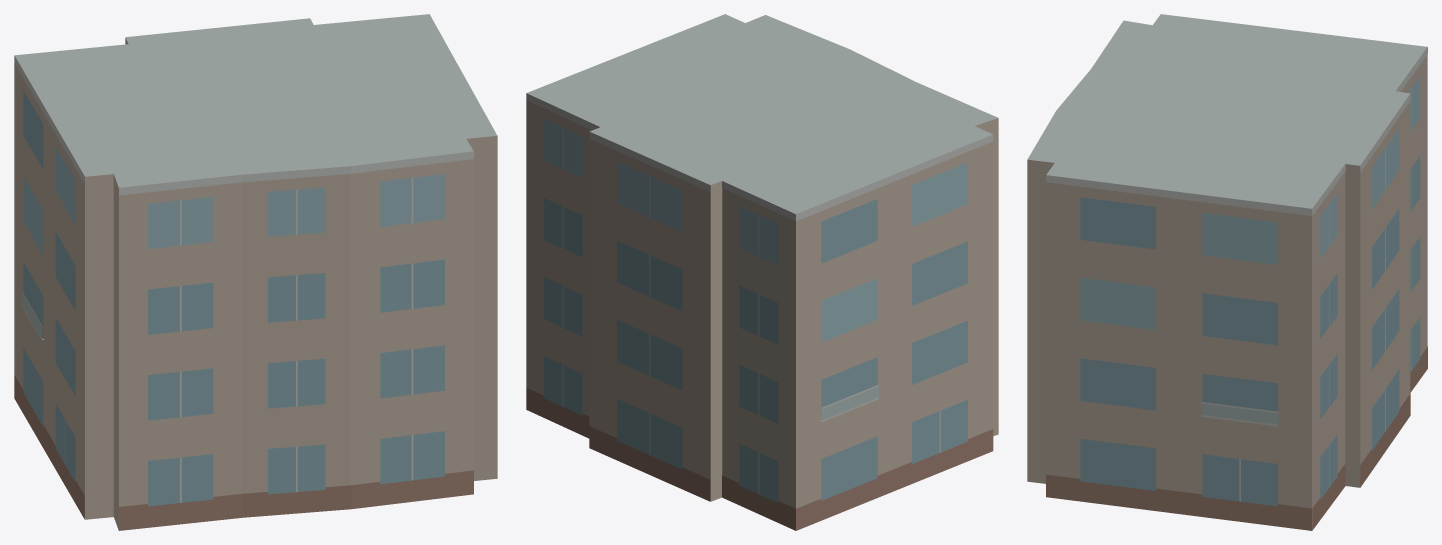
Rendered from survey-upis-32873580.glb.
3 renders of one model, left to right at view 1: azimuth 30°, elevation 25°; view 2: azimuth 150°, elevation 25°; view 3: azimuth 270°, elevation 25°, orthographic. The views are drawn at different scales.
Visible parts, largest first — view 1: survey-upis-32873580.tmp; view 2: survey-upis-32873580.tmp; view 3: survey-upis-32873580.tmp.
Part boxes in pixels (x1=…): survey-upis-32873580.tmp: x1=14, y1=14, x2=497, y2=530; survey-upis-32873580.tmp: x1=526, y1=14, x2=998, y2=530; survey-upis-32873580.tmp: x1=1027, y1=14, x2=1427, y2=530.
Bounding box in the file's own units: 14.15 × 10.9 × 12.29.
